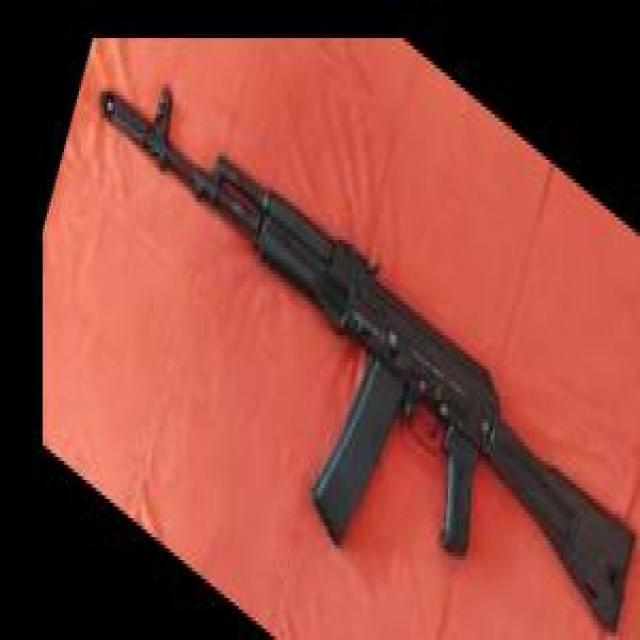weapon: (98, 83, 638, 632)
